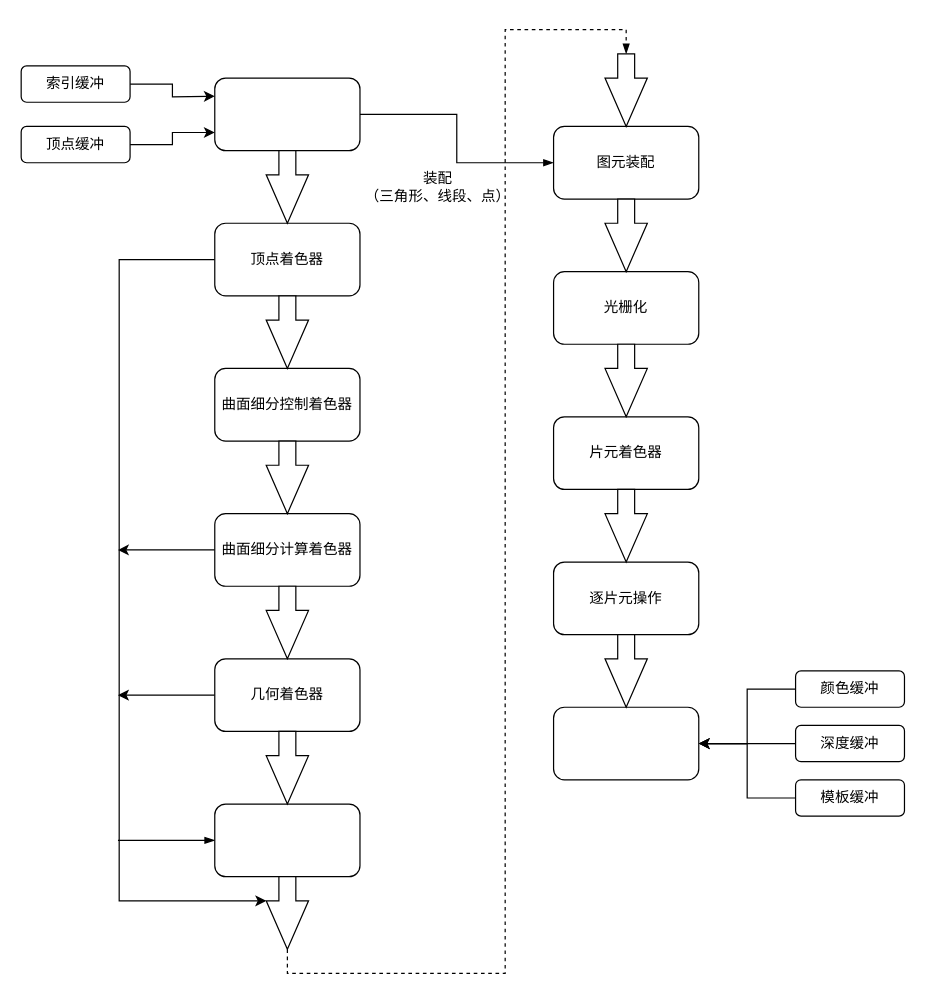
This 926x1004 diagram has some shape labels left out. Here are the shapes that lost their labels. From the top down, the centre of each, then its label:
At (287,114): "基本处理".
At (625,743): "帧缓冲".
At (287,840): "变换反馈".
